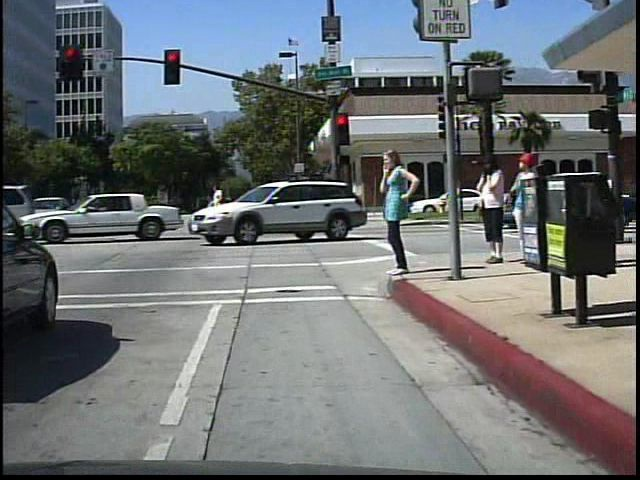person: (375, 146, 420, 283), (468, 148, 508, 265), (504, 146, 544, 252)
